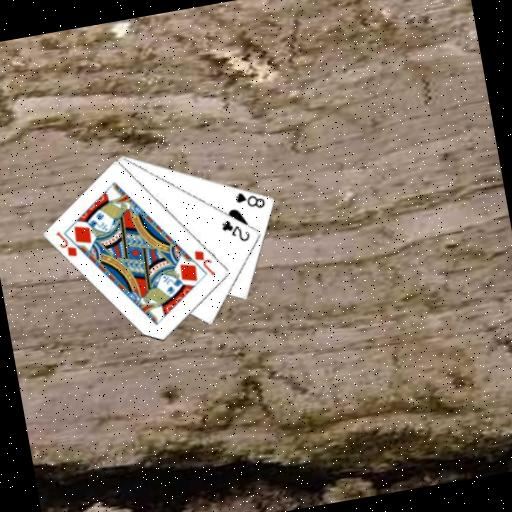2C: (217, 214, 252, 246)
8S: (231, 185, 268, 214)
JD: (190, 244, 217, 279), (53, 226, 80, 261)
